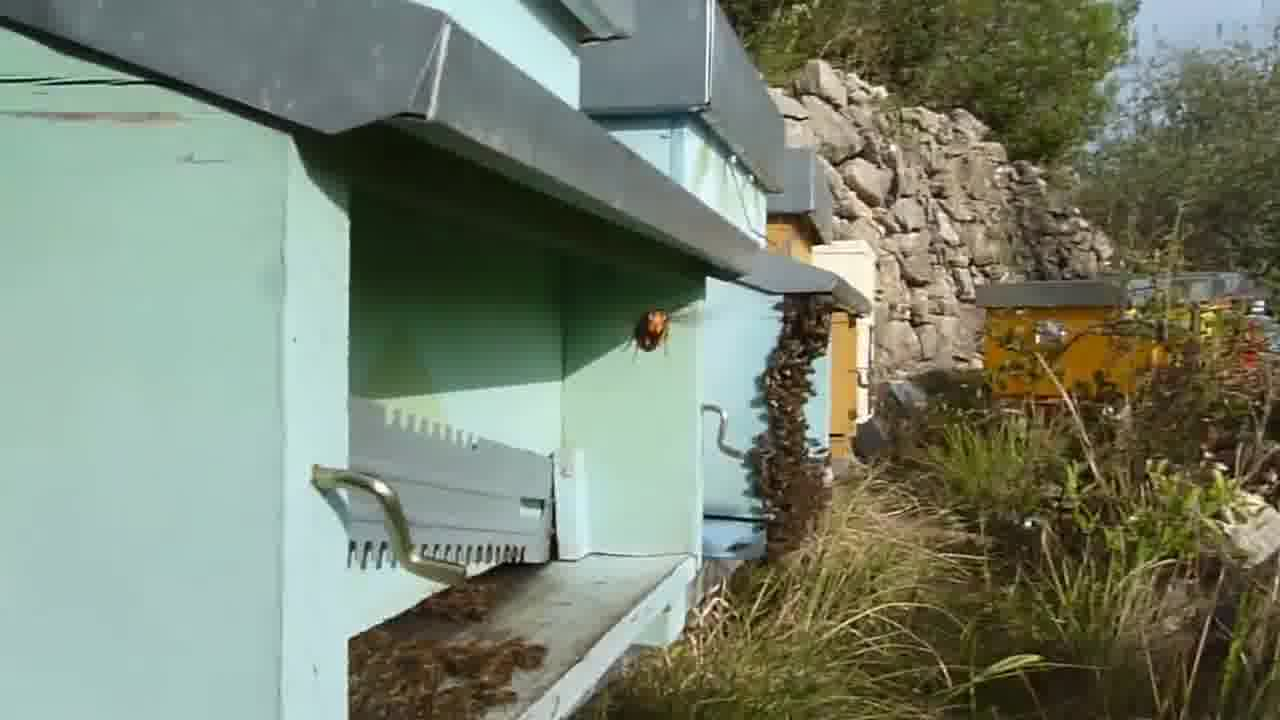bee: (348, 629, 548, 720), (749, 421, 830, 488), (755, 487, 820, 550), (755, 363, 824, 422), (776, 297, 834, 358), (432, 577, 496, 614)
hornet: (632, 303, 678, 356)
